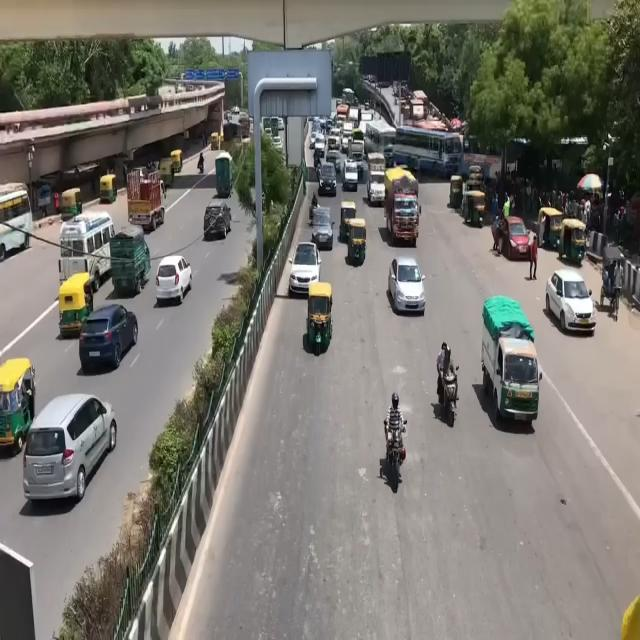auto: (0, 358, 36, 453), (58, 271, 95, 336), (306, 282, 333, 356), (561, 218, 587, 264), (347, 217, 367, 265), (339, 200, 357, 243), (61, 187, 83, 220), (547, 213, 564, 250), (471, 192, 487, 227), (159, 157, 177, 188), (100, 174, 118, 204), (170, 149, 183, 174), (211, 132, 222, 150)
bike-auto: (384, 419, 408, 482), (438, 361, 461, 426)
